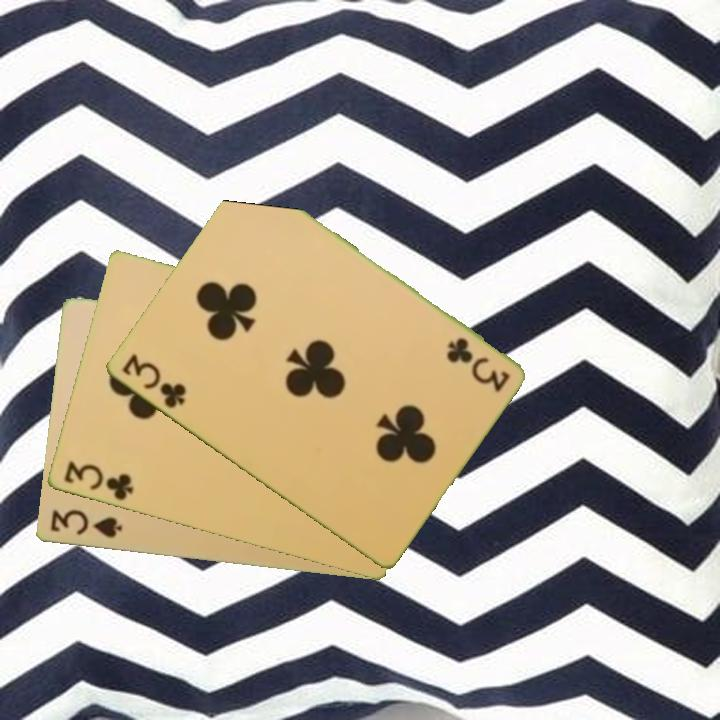3c: (118, 350, 189, 412), (443, 333, 513, 394), (60, 458, 136, 504)
3s: (46, 506, 125, 541)
